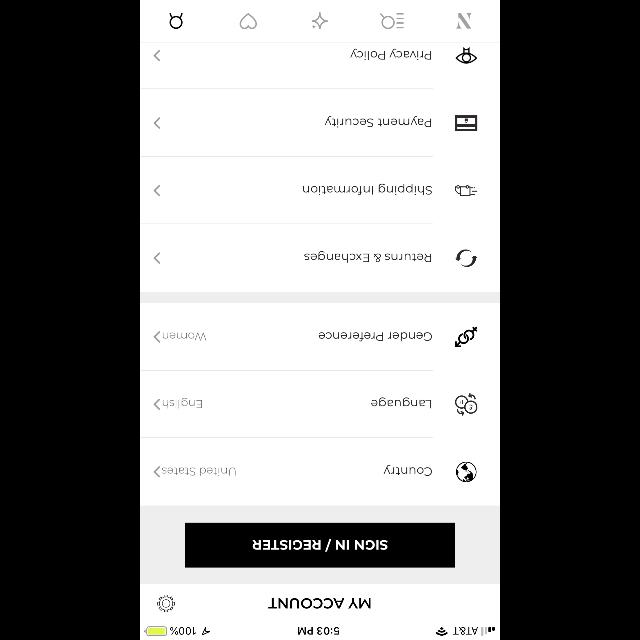icon: (455, 46, 477, 64), (380, 13, 404, 29), (455, 250, 477, 266), (455, 116, 477, 130), (158, 594, 175, 612), (240, 13, 256, 29), (170, 13, 182, 29), (154, 252, 160, 264), (154, 50, 160, 61), (154, 186, 160, 197), (154, 398, 160, 409), (154, 118, 160, 128), (154, 332, 160, 342), (154, 466, 160, 476)
image: (455, 393, 477, 415), (455, 327, 477, 348), (456, 462, 476, 482), (312, 12, 328, 30), (455, 186, 477, 197), (456, 14, 472, 28)
text: (303, 183, 432, 194), (304, 252, 432, 262), (325, 116, 431, 128), (318, 332, 432, 342), (268, 598, 370, 608), (351, 48, 432, 60), (162, 468, 236, 477), (371, 398, 431, 408), (384, 464, 432, 476), (162, 398, 202, 408), (162, 333, 206, 341)
textbutton: (185, 523, 455, 567)
uppertaskbar: (140, 626, 500, 640)
